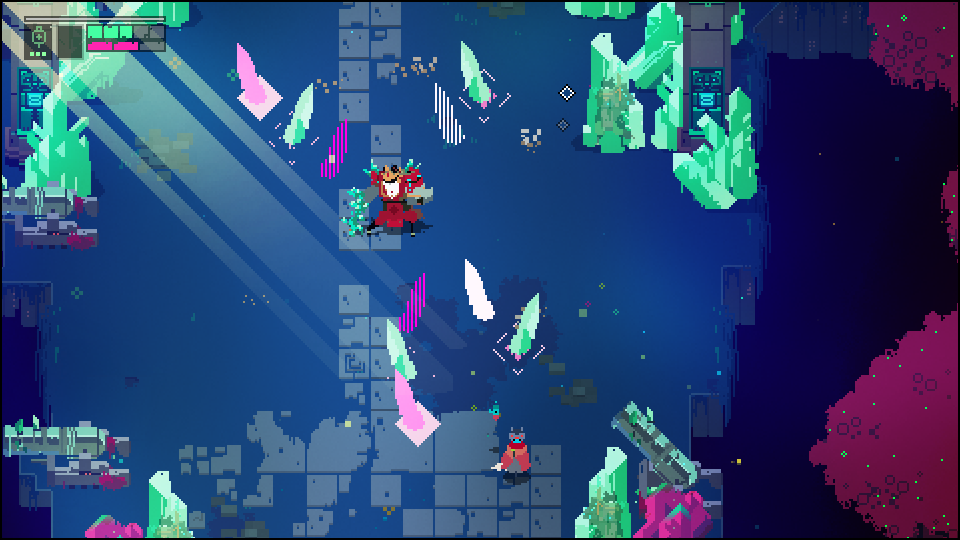hanged_crys: (430, 83, 470, 146), (279, 81, 314, 147), (383, 317, 417, 384), (237, 40, 269, 111), (456, 40, 490, 104), (313, 117, 348, 174), (393, 371, 427, 428), (509, 292, 540, 354), (463, 260, 490, 316)
hanged_man: (345, 159, 433, 243)
player: (501, 427, 530, 486)
